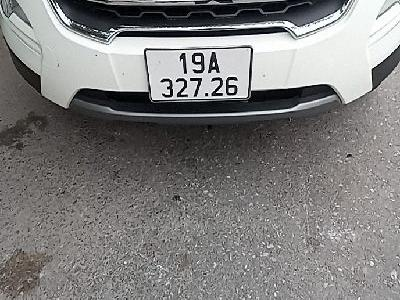lisence: (144, 45, 254, 104)
